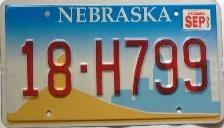1: (17, 39, 41, 98)
7: (124, 38, 152, 98)
8: (46, 41, 76, 98)
9: (181, 38, 211, 97), (153, 39, 181, 98)
H: (92, 38, 122, 99)
